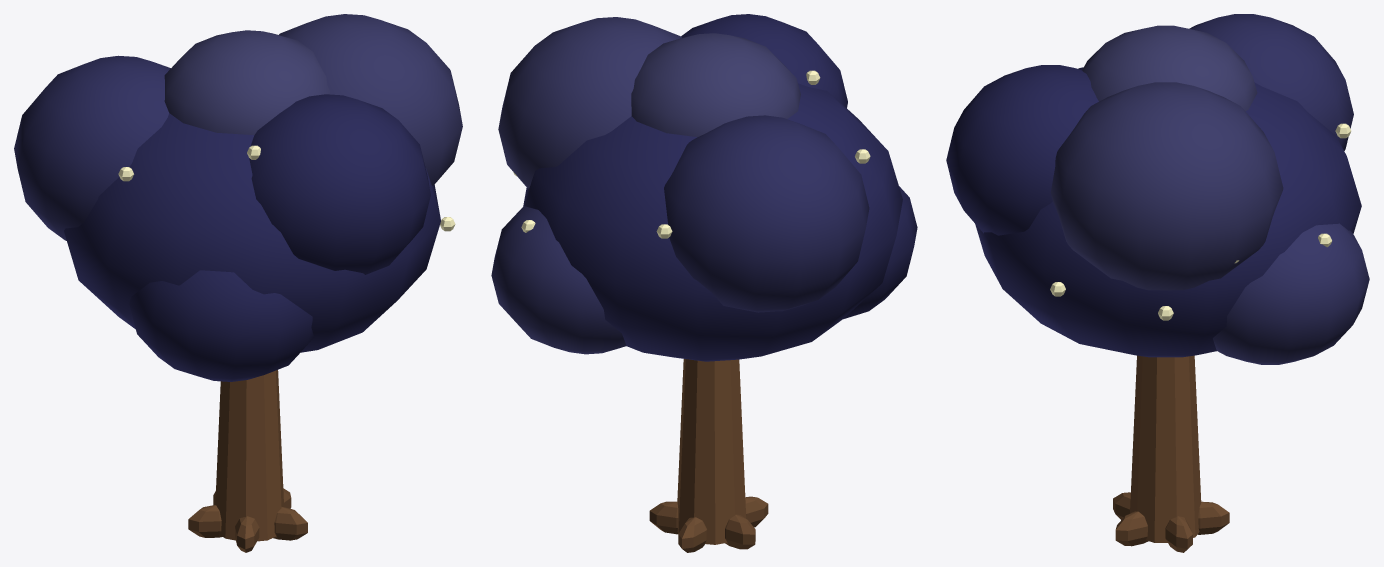
The model's file is Planta_GalaxyFruit.fbx.
3 views of the same model, side by side, from view 1: azimuth 30°, elevation 25°; view 2: azimuth 150°, elevation 25°; view 3: azimuth 270°, elevation 25° (orthographic).
Visible parts, largest first — view 1: Corpo_GalaxyFruit, Brilho_GalaxyFruit; view 2: Corpo_GalaxyFruit, Brilho_GalaxyFruit; view 3: Corpo_GalaxyFruit, Brilho_GalaxyFruit.
Part boxes in pixels (<box>): Corpo_GalaxyFruit: <box>14,14,462,552</box>; Brilho_GalaxyFruit: <box>118,145,455,231</box>; Corpo_GalaxyFruit: <box>491,14,917,552</box>; Brilho_GalaxyFruit: <box>513,70,870,238</box>; Corpo_GalaxyFruit: <box>946,14,1369,552</box>; Brilho_GalaxyFruit: <box>1050,123,1351,320</box>.
Size of the model in its own units: 5.49 by 6.86 by 5.26.
1 material, 1 textured.
